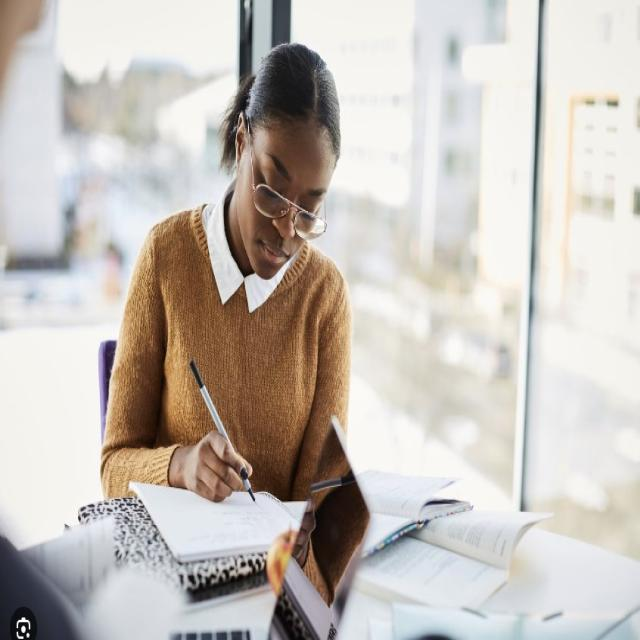studying-person: (96, 41, 551, 640)
